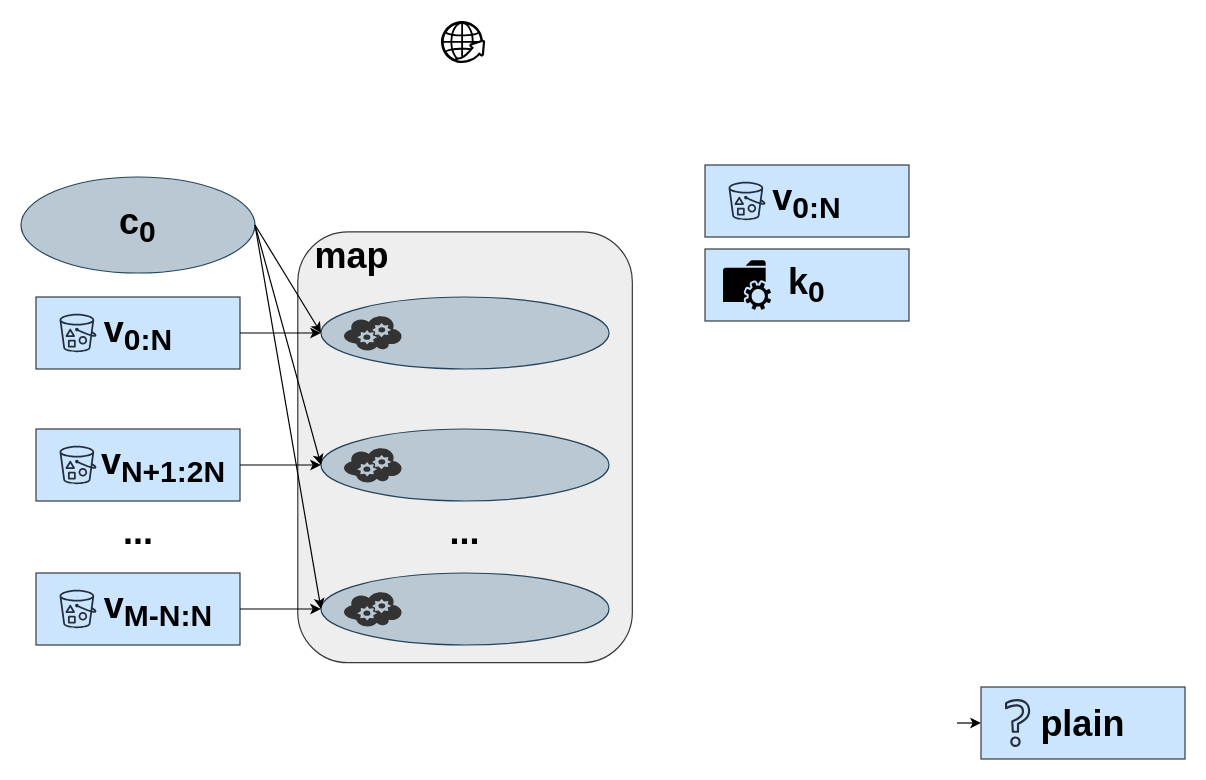
Image size: 1206x780. Some labels were removed from this diagram. Each missing label, with the box of its shape:
vpxenc 0: (320, 296, 609, 369)
vpxenc 1: (320, 428, 609, 501)
vpxenc M/N: (320, 572, 609, 645)
